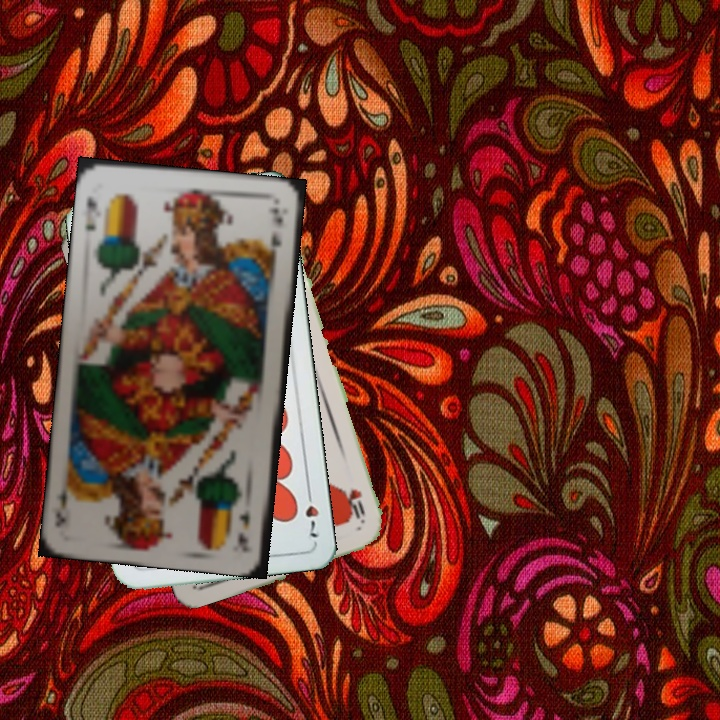EK: (234, 505, 252, 549), (82, 193, 99, 235)
H7: (301, 484, 322, 540)
HO: (345, 485, 368, 527)
